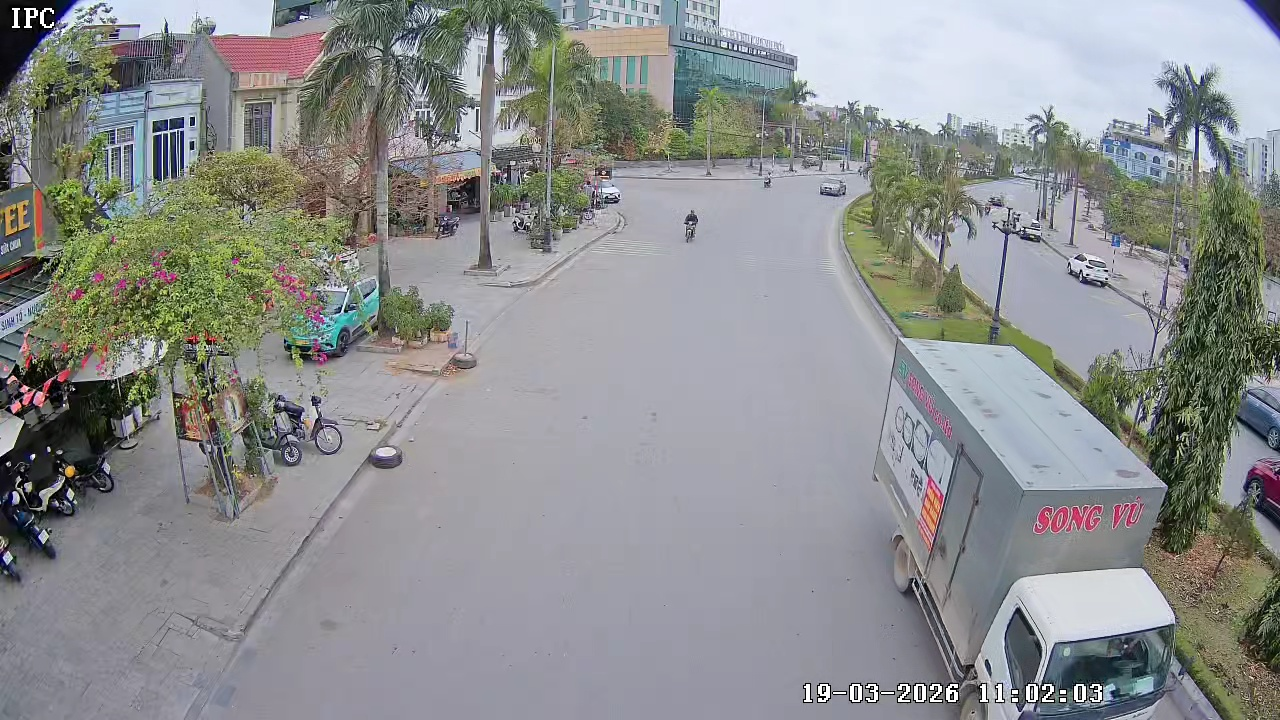bike: (271, 385, 345, 459), (262, 390, 303, 465)
car: (1065, 250, 1113, 289), (817, 172, 848, 198)
motorbike: (0, 528, 24, 585), (681, 208, 701, 242)
